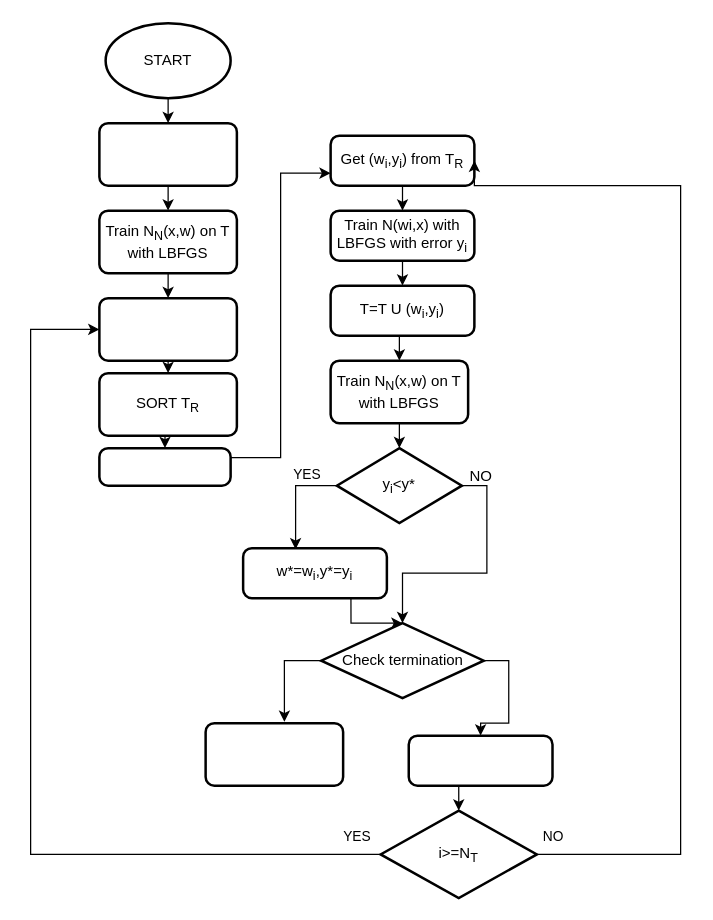
This 713x920 diagram has some shape labels left out. Each missing label, with the box of its shape:
Apply N(w*,x) on test set and terminate: (204, 721, 344, 786)
i=1: (98, 446, 231, 486)
i=i+1: (407, 734, 553, 786)
T R ={N R randomly selected points from N N (x,w)}: (98, 296, 238, 361)
T= {N S samples from N(x,w)}: (98, 121, 238, 186)
